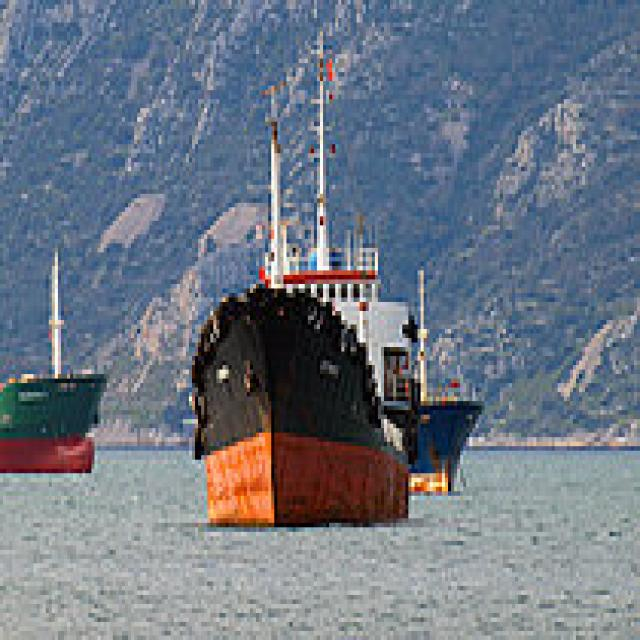Tanker: (186, 36, 411, 527), (277, 230, 478, 500), (0, 320, 107, 473)
